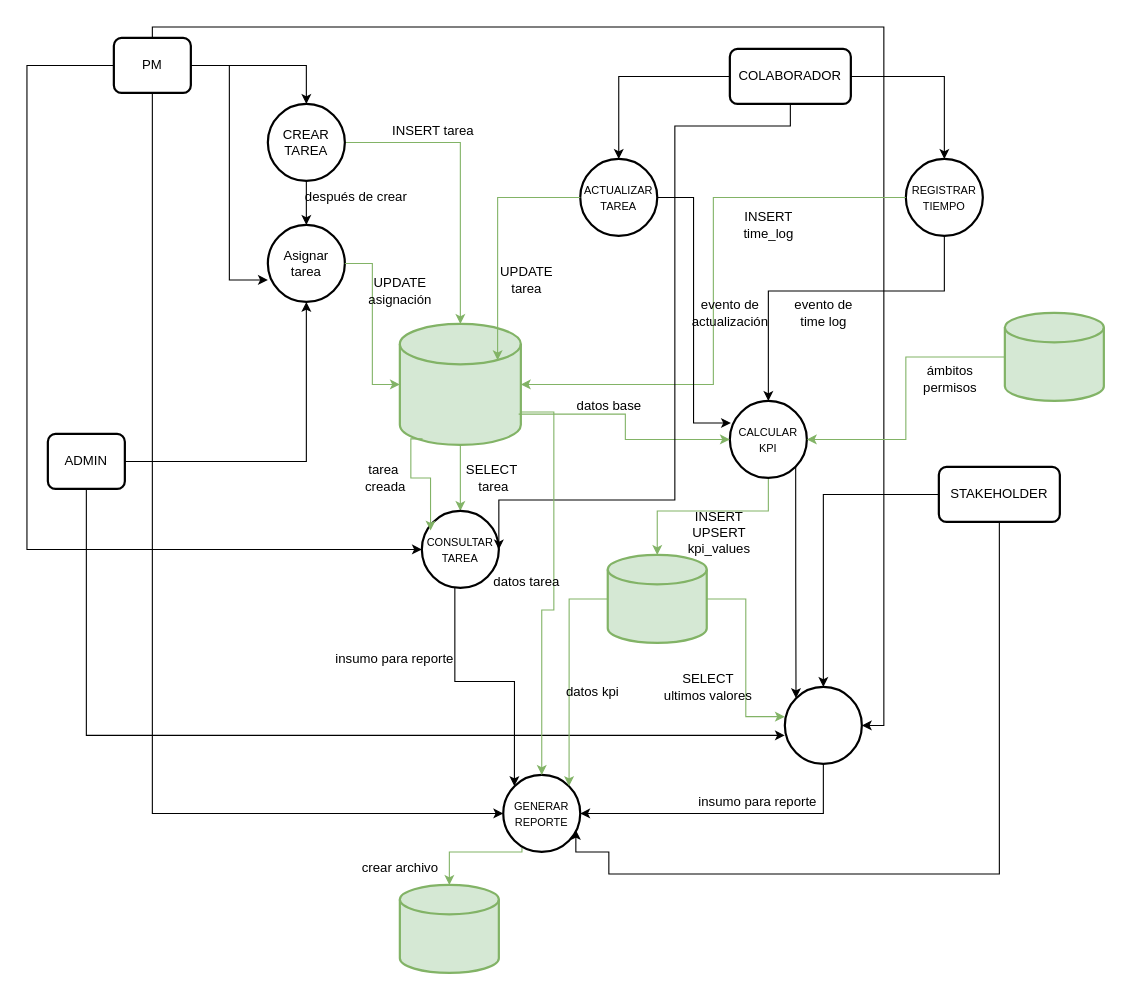
This 1124x993 diagram has some shape labels left out. The shapes that lost their labels are listed below. From the top down, each one's centre as x and y in pixels, then its label:
At pixel 1053 356: "Catálogo (Usuarios, proyectos, permisos )".
At pixel 459 384: "Datos tarea (task time_logs, comments, assigments)".
At pixel 656 598: "DatosKpi (kpi_values, series, umbrales)".
At pixel 822 725: "CONSULTAR KPIS".
At pixel 448 928: "Exportes (files,jobs)".
